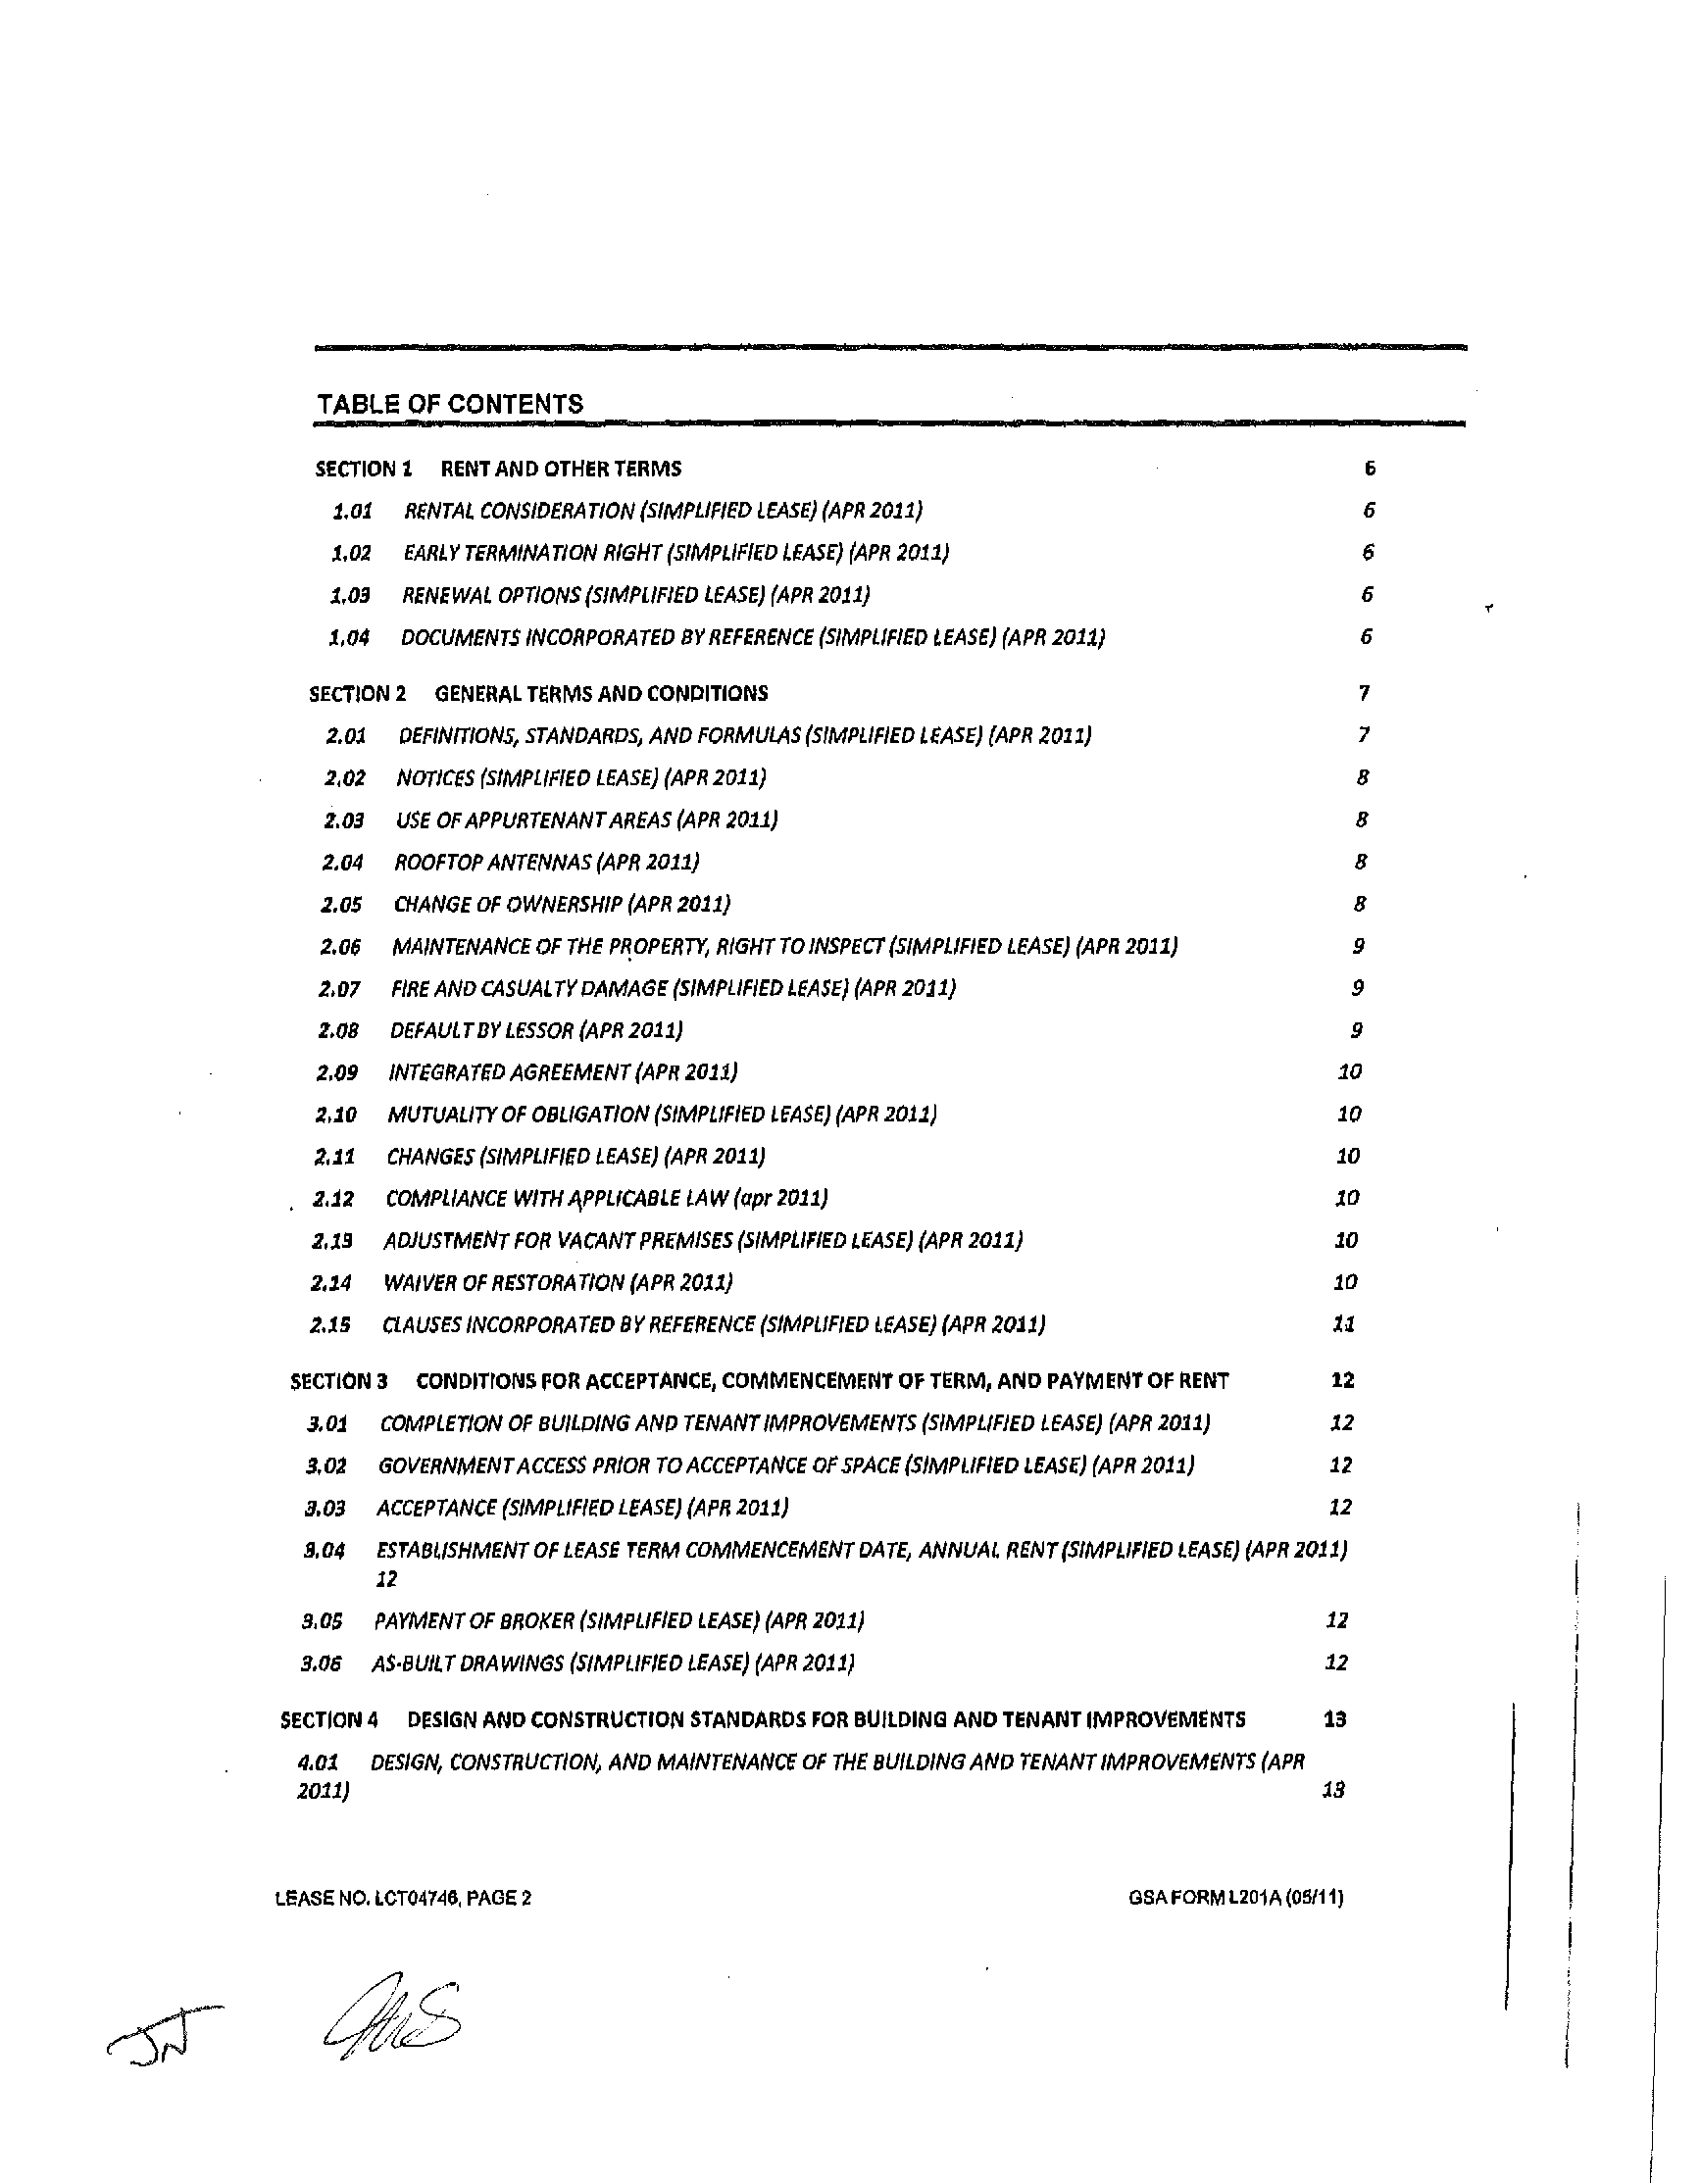handwritten: (301, 1946, 477, 2074), (90, 1994, 232, 2078)
